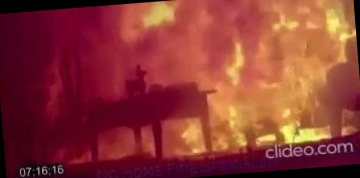fire: (36, 0, 360, 157)
